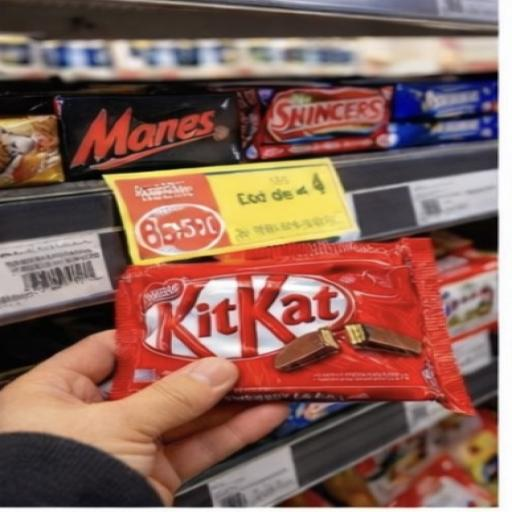kitkat: (66, 196, 512, 460)
